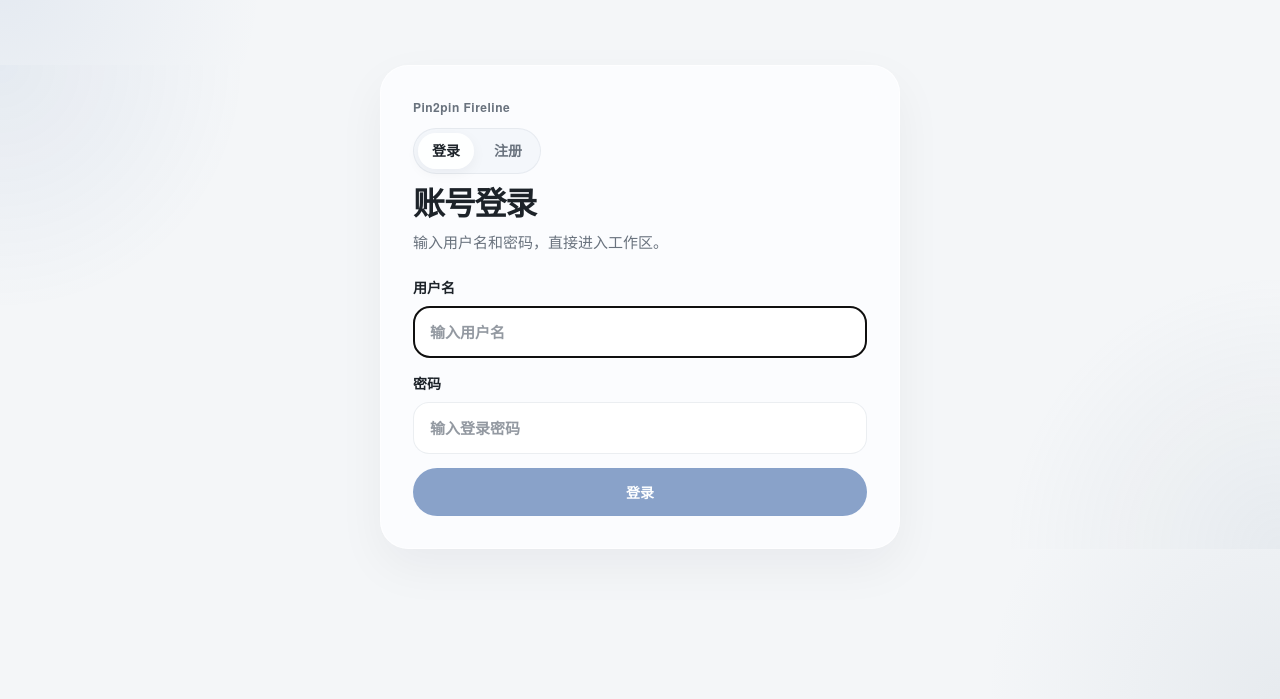
it: AuthPanel › blocks registration when password confirmation does not match
Click the tab "注册": [508, 151] box [480,133,536,169]
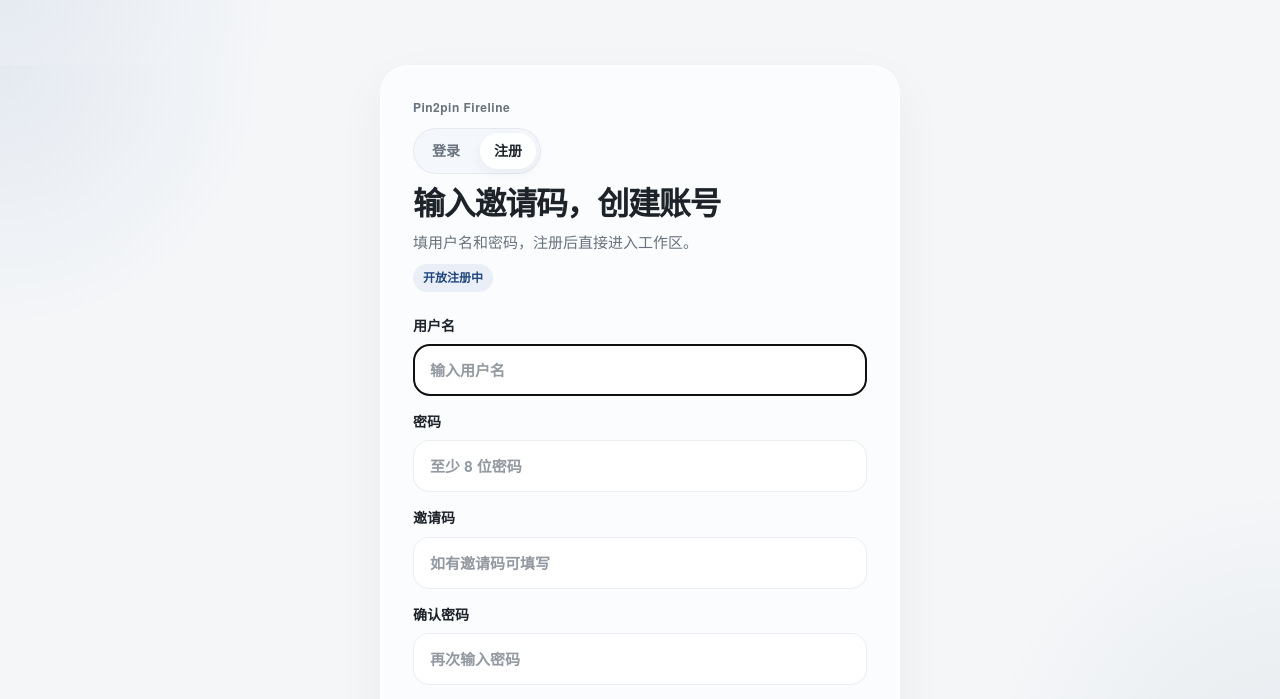
In the field labelled "用户名": [640, 370] box [413,344,867,396], type "new-user"
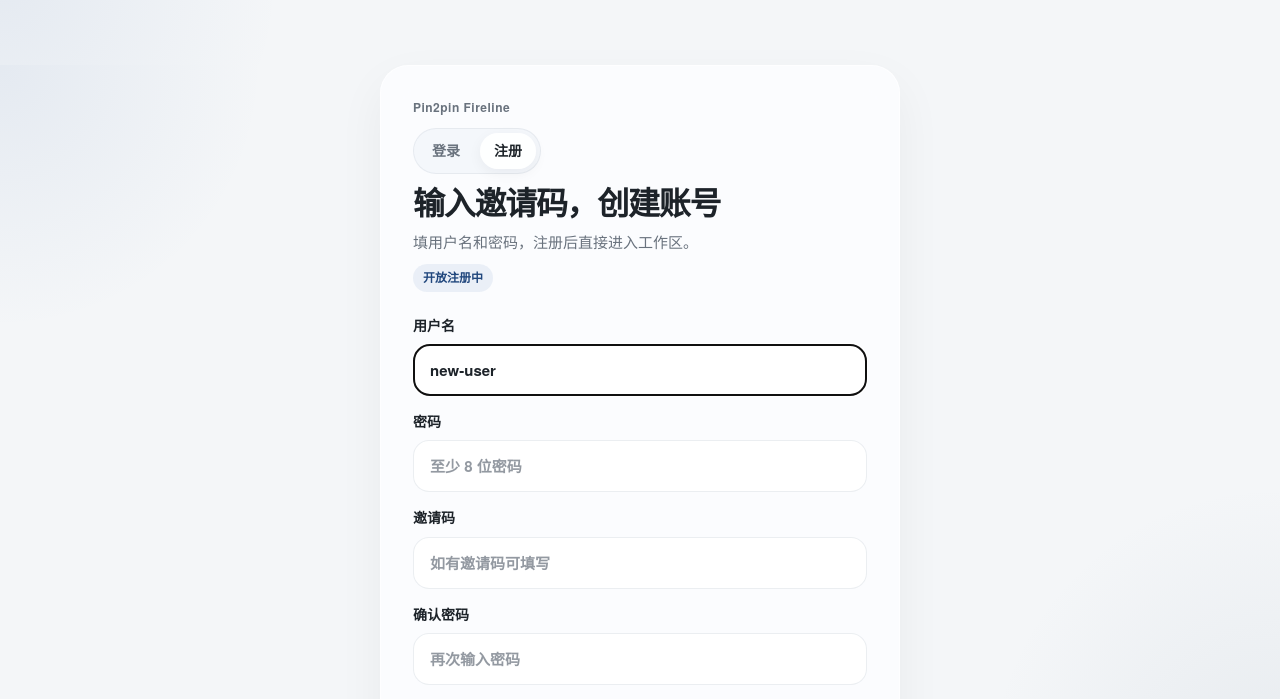
In the password field labelled "密码": [640, 466] box [413,440,867,492], type "Pin2pin!2026"
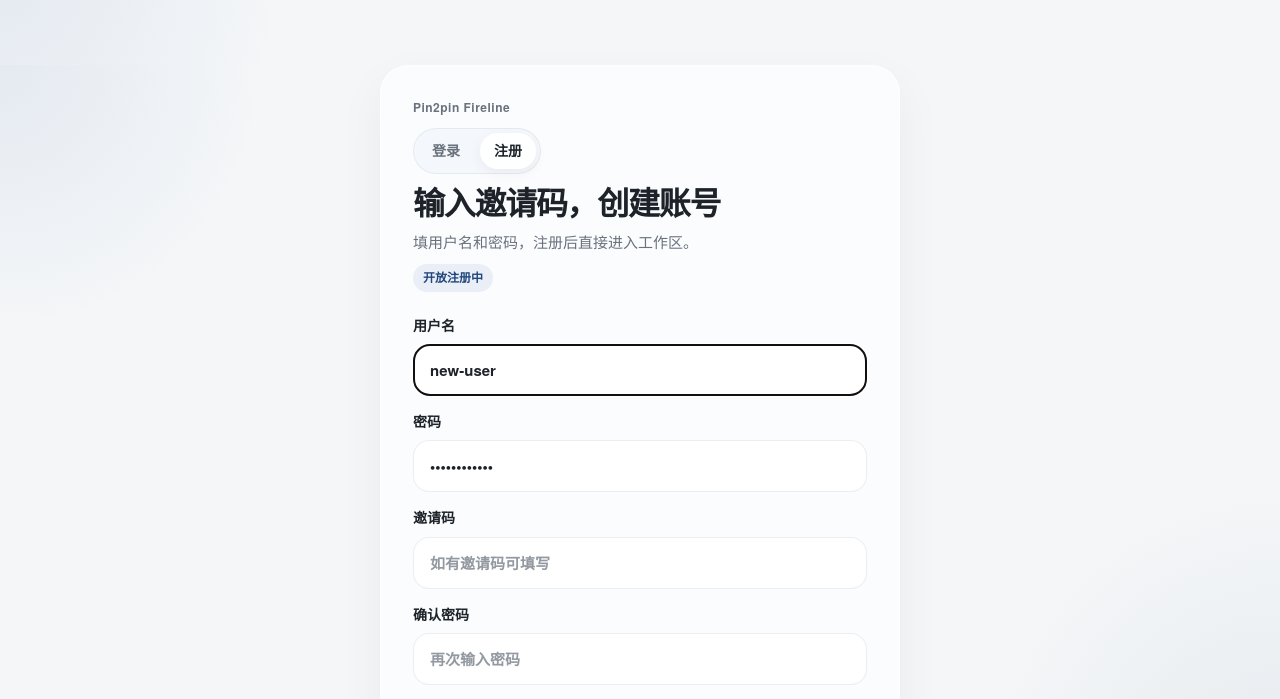
In the password field labelled "确认密码": [640, 659] box [413,633,867,685], type "Mismatch!2026"
(page scrolled)
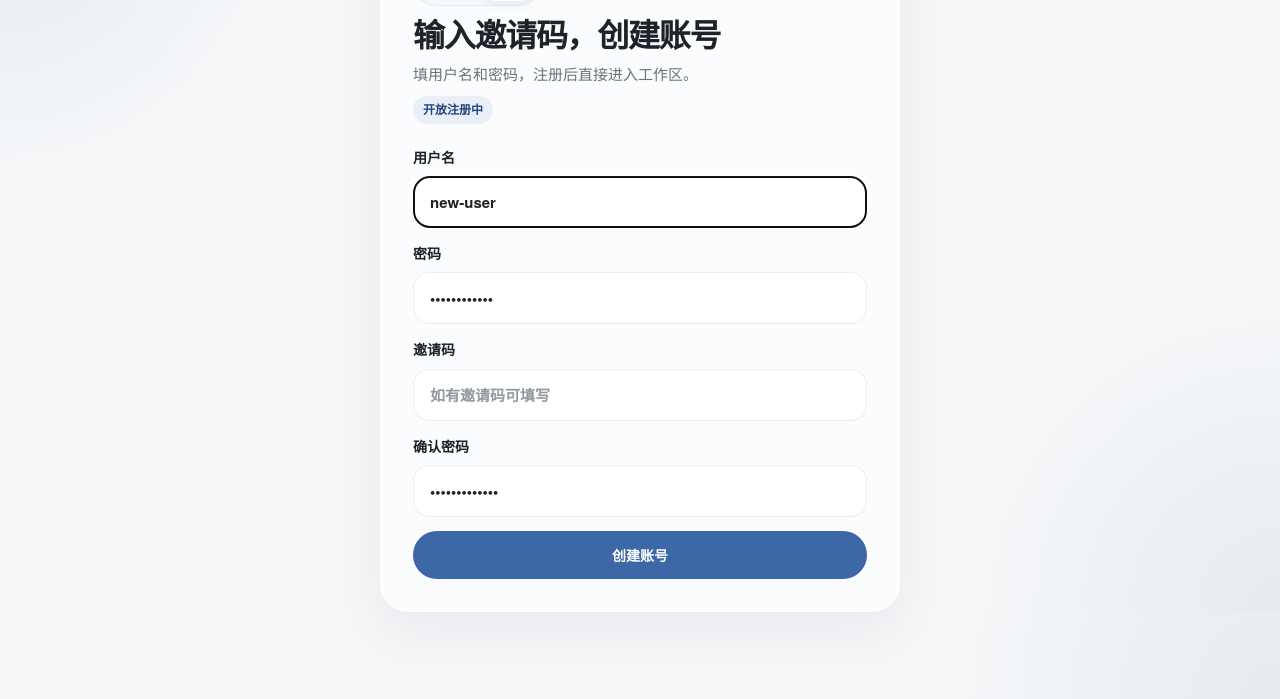
Click the button "创建账号": [640, 555] box [413,531,867,579]
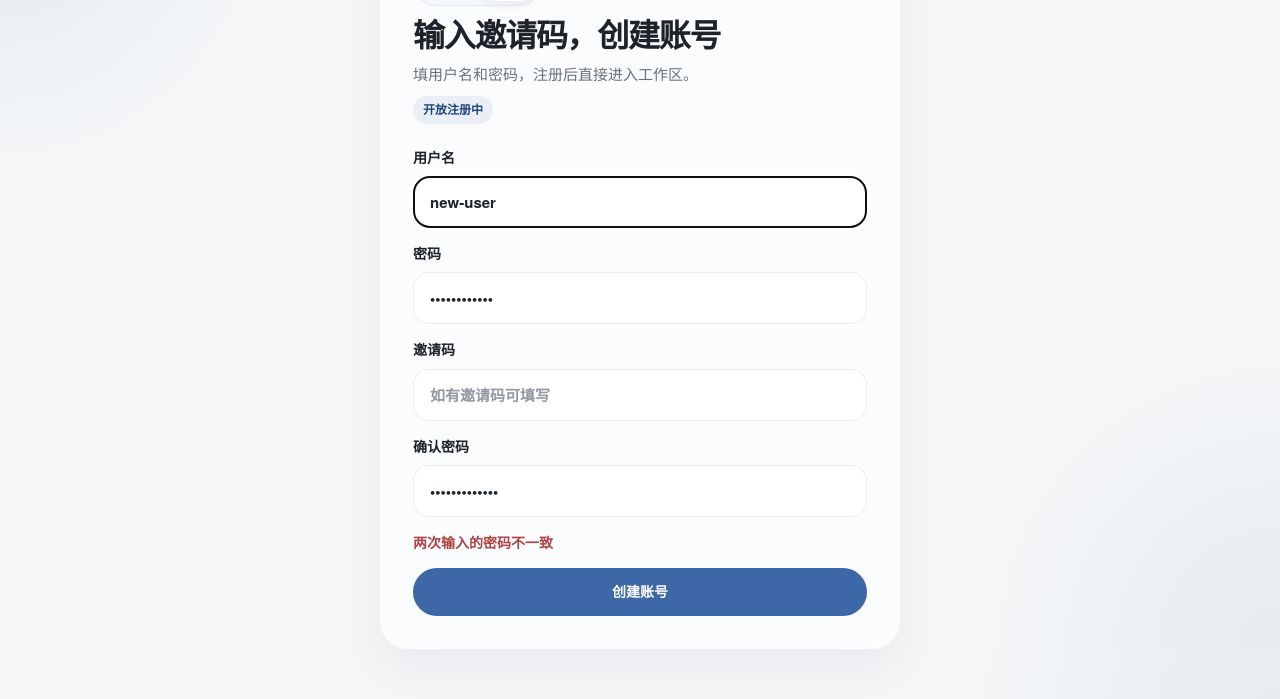
Now the text "两次输入的密码不一致" is shown, box [413,532,553,552]
